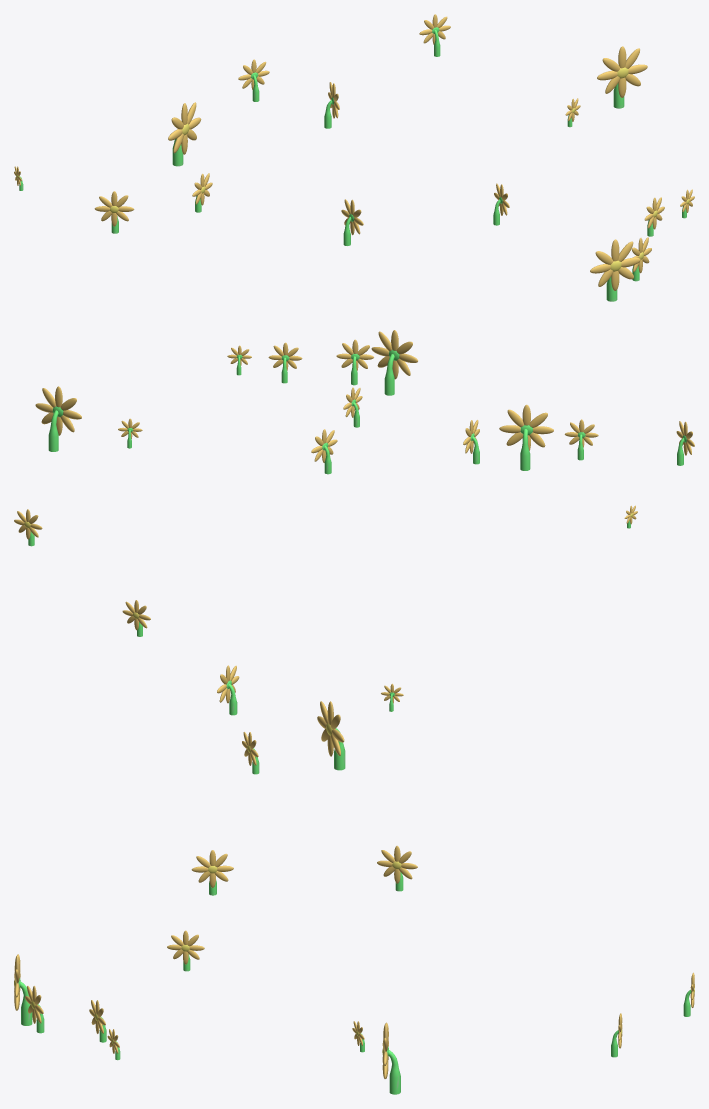
File: orangeflowers.fbx
3 views of the same model, one above another, from view 1: azimuth 30°, elevation 25°; view 2: azimuth 150°, elevation 25°; view 3: azimuth 270°, elevation 25° (orthographic). The views are drawn at different scales.
Parts seen in each view (by area): view 1: pasted__pasted__pasted__pasted__pasted__pasted__pasted__e11. (×7), pasted__pasted__pasted__pasted__pasted__pasted__pasted__e11; view 2: pasted__pasted__pasted__pasted__pasted__pasted__pasted__e11. (×9), pasted__pasted__pasted__pasted__pasted__pasted__pasted__e11; view 3: pasted__pasted__pasted__pasted__pasted__pasted__pasted__e11. (×5), pasted__pasted__pasted__pasted__pasted__pasted__pasted__e11.
Boxes of the visible parts, x1,y1,x2,y2 form: pasted__pasted__pasted__pasted__pasted__pasted__pasted__e11. (×7): (94, 14, 651, 281); pasted__pasted__pasted__pasted__pasted__pasted__pasted__e11: (590, 239, 640, 301); pasted__pasted__pasted__pasted__pasted__pasted__pasted__e11. (×9): (14, 339, 694, 636); pasted__pasted__pasted__pasted__pasted__pasted__pasted__e11: (371, 330, 417, 395); pasted__pasted__pasted__pasted__pasted__pasted__pasted__e11. (×5): (167, 701, 417, 1094); pasted__pasted__pasted__pasted__pasted__pasted__pasted__e11: (14, 954, 32, 1025).
Bounding box in the file's own units: 24599 × 6644 × 21583.
Materials: 15 (15 with a texture image).
